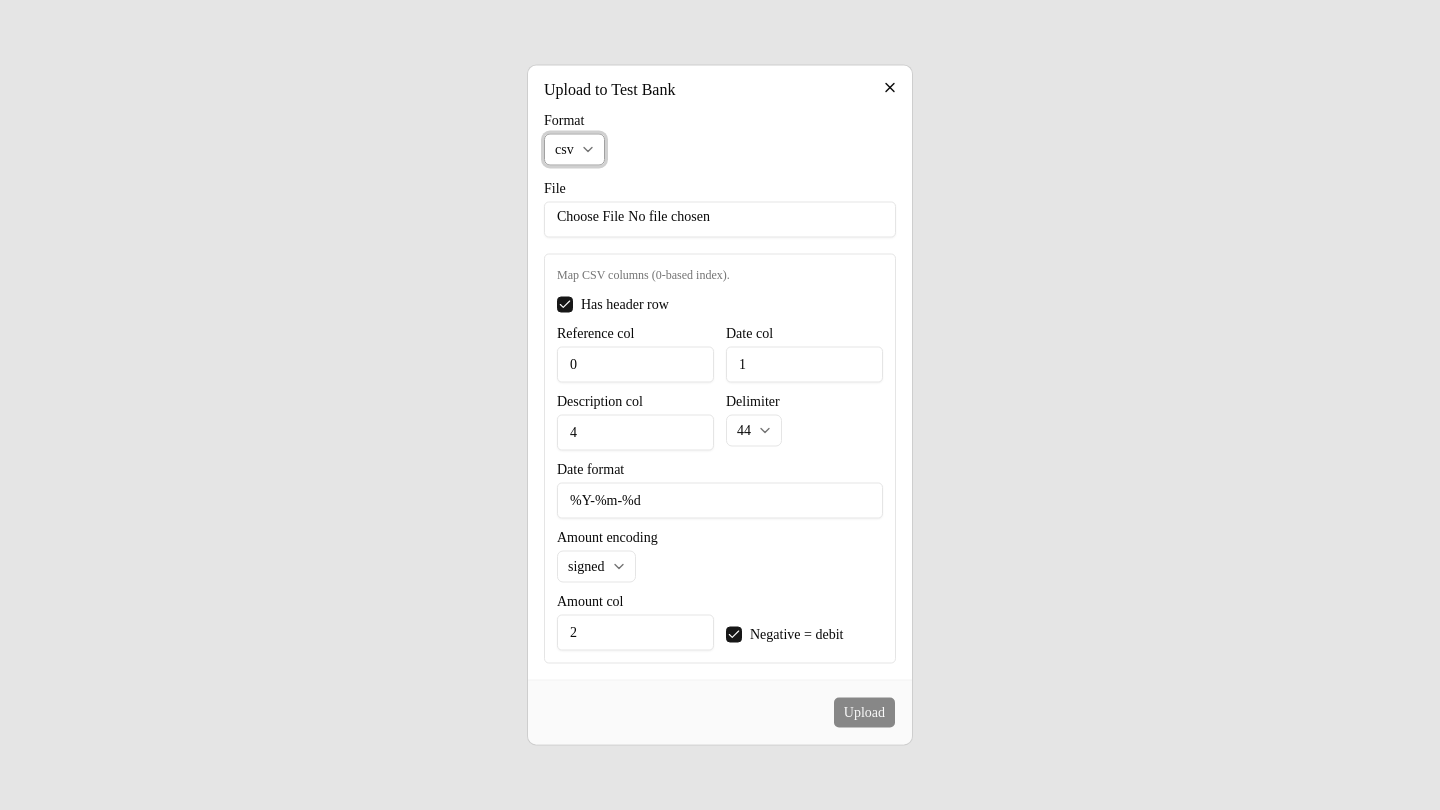
Test: UploadDialog › hides the CSV mapping form when MT940 is selected
Expected: the number field labelled "Reference col" is shown, [557,346,714,382]
# Switch format to MT940.
Click the dropdown named "format" at point(574, 150), box [544,134,605,166]
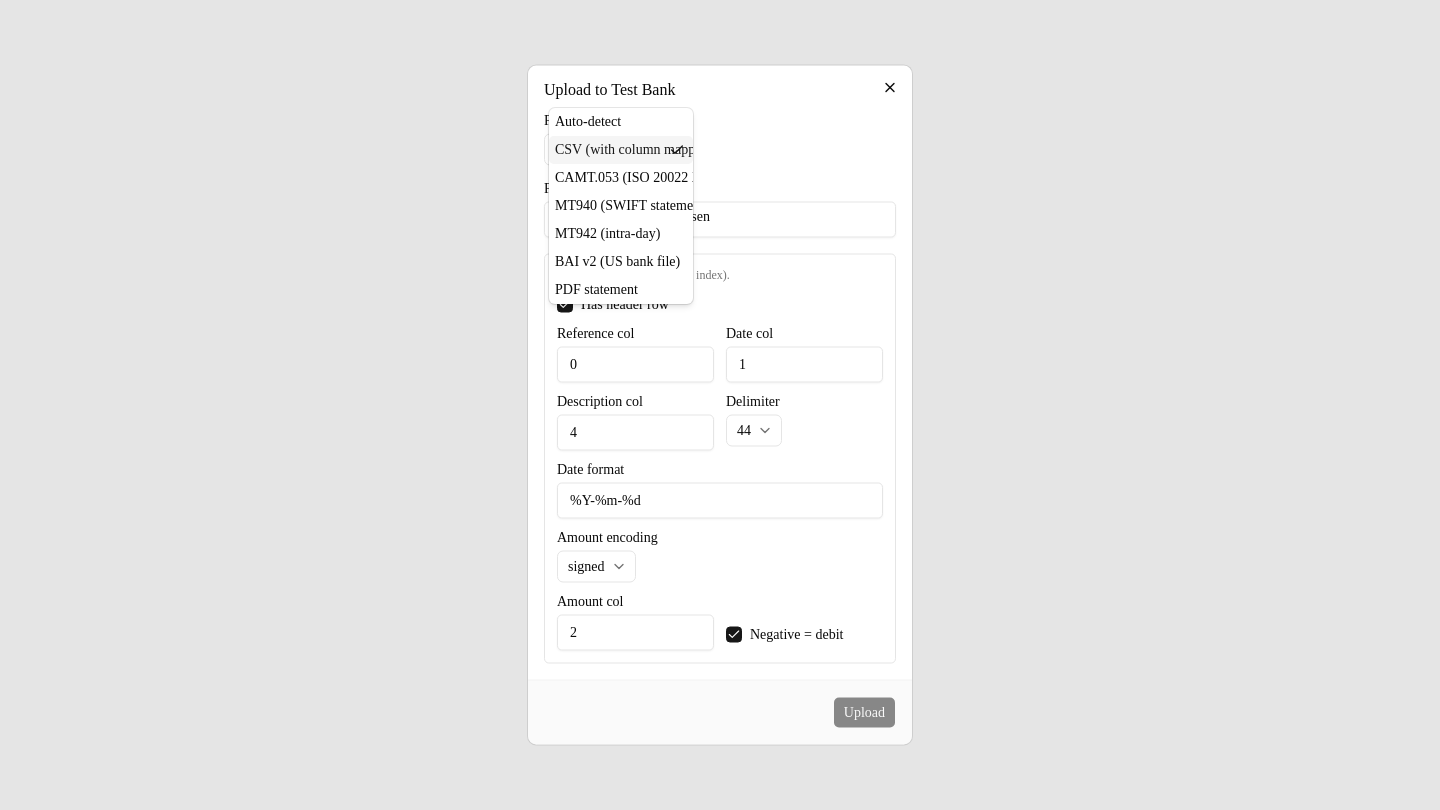
Click the option "MT940 (SWIFT statement)" at point(632, 205), box [555,198,709,212]
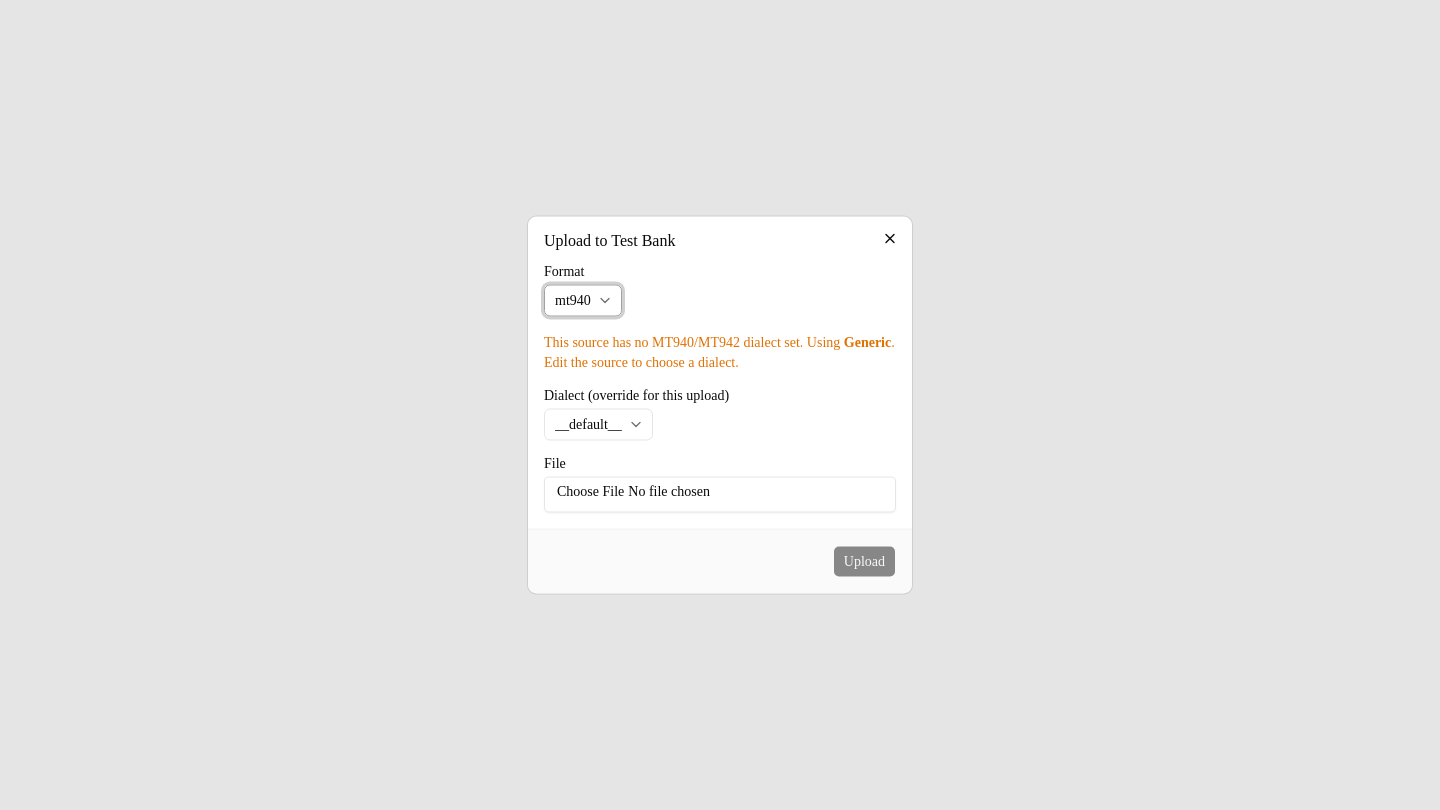
Expected: the label labelled "Reference col" is gone
Expected: the label labelled "Amount col" is gone
